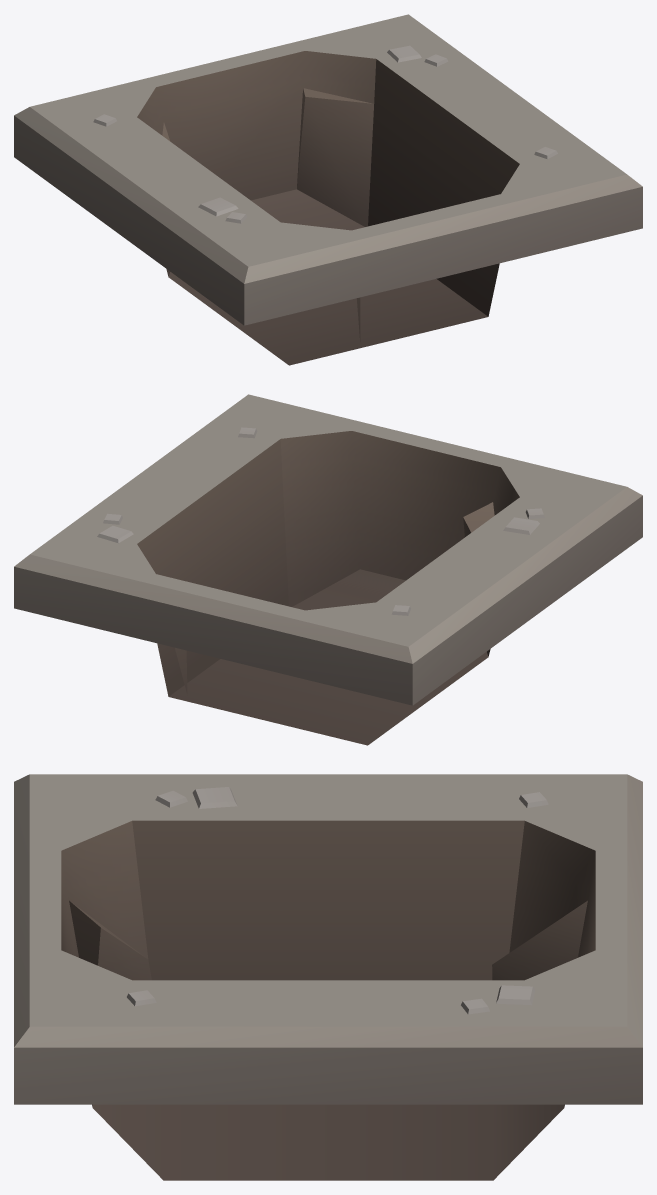
The model's file is floor_dirt_grave.glb.
3 renders of one model, top to bottom at view 1: azimuth 30°, elevation 25°; view 2: azimuth 150°, elevation 25°; view 3: azimuth 270°, elevation 25°, orthographic. The views are drawn at different scales.
Visible parts, largest first — view 1: floor_dirt_grave; view 2: floor_dirt_grave; view 3: floor_dirt_grave.
Boxes of the visible parts, x1=… form: floor_dirt_grave: x1=14, y1=14, x2=642, y2=365; floor_dirt_grave: x1=14, y1=394, x2=642, y2=745; floor_dirt_grave: x1=14, y1=774, x2=642, y2=1180.
Size of the model in its own units: 4 by 1.53 by 4.
Materials: 1 (1 with a texture image).
